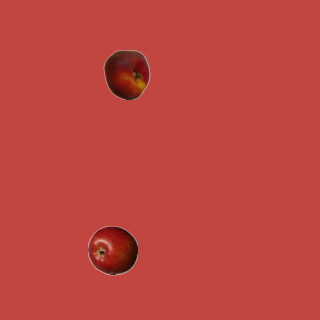Apple Braeburn: (87, 225, 137, 275)
Nectarine Flat: (101, 49, 151, 99)
